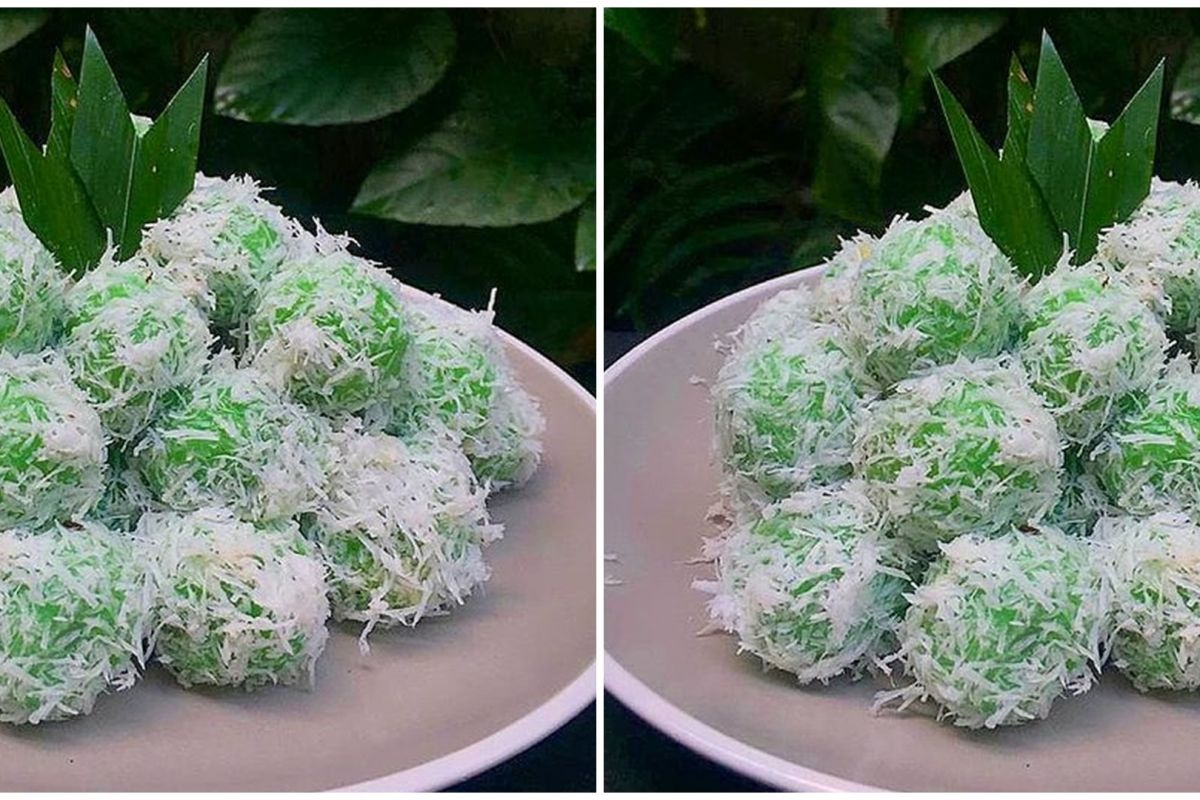klepon: (234, 257, 432, 428)
